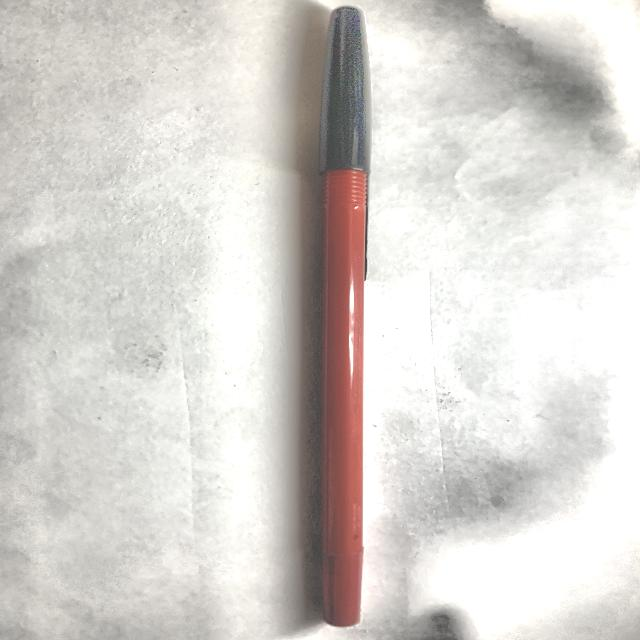Pulpen: (307, 0, 389, 635)
